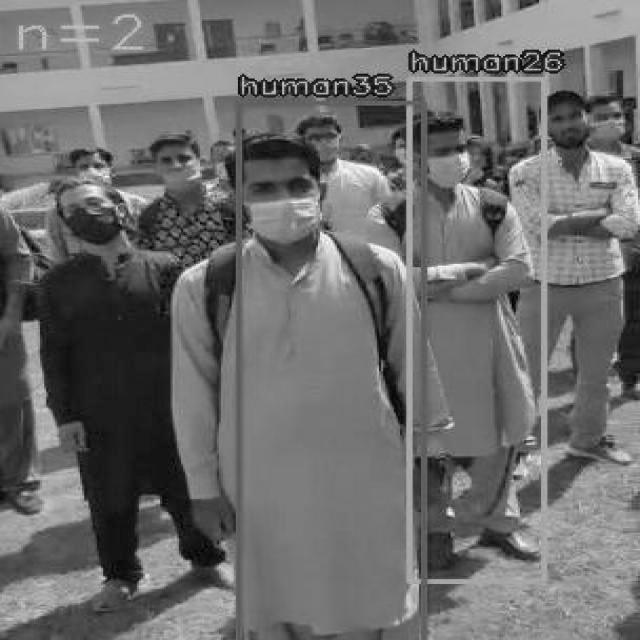person: (236, 101, 423, 640), (406, 77, 543, 581)
